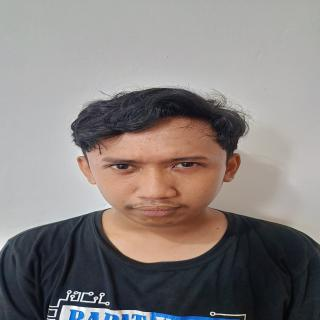Marah: (79, 101, 241, 237)
